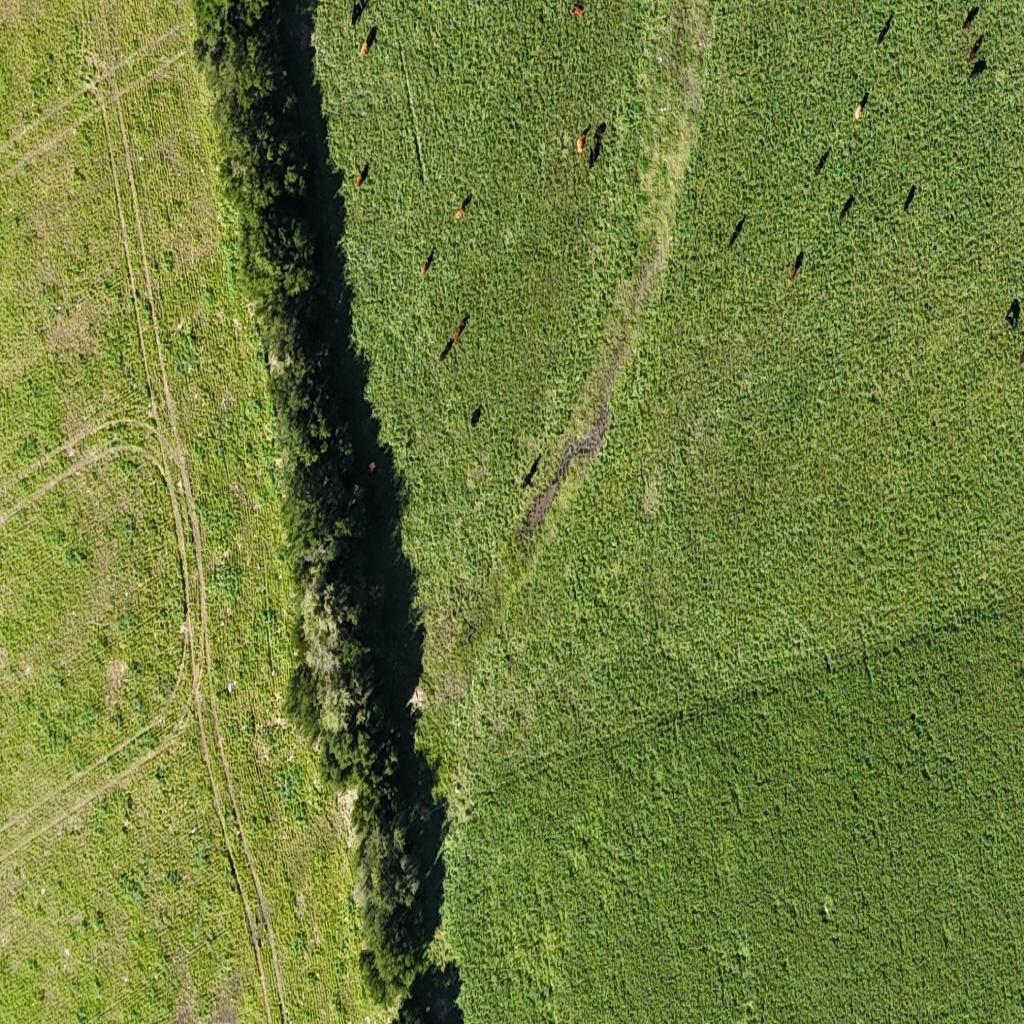cow: (589, 122, 606, 170), (521, 452, 541, 489), (728, 217, 745, 249), (360, 25, 376, 58), (1004, 298, 1020, 330), (813, 146, 829, 178), (854, 91, 868, 125), (877, 16, 892, 47), (839, 193, 854, 224), (453, 314, 468, 344), (968, 34, 984, 62), (351, 0, 367, 28), (455, 194, 471, 222), (575, 127, 590, 156), (963, 5, 980, 30), (789, 250, 803, 280), (969, 57, 986, 81), (354, 162, 368, 190), (903, 184, 916, 214), (439, 338, 455, 362), (420, 250, 433, 278), (457, 402, 471, 426), (470, 404, 482, 428), (594, 121, 606, 138), (876, 213, 888, 230), (571, 3, 583, 19), (360, 41, 369, 58), (310, 31, 317, 48)
